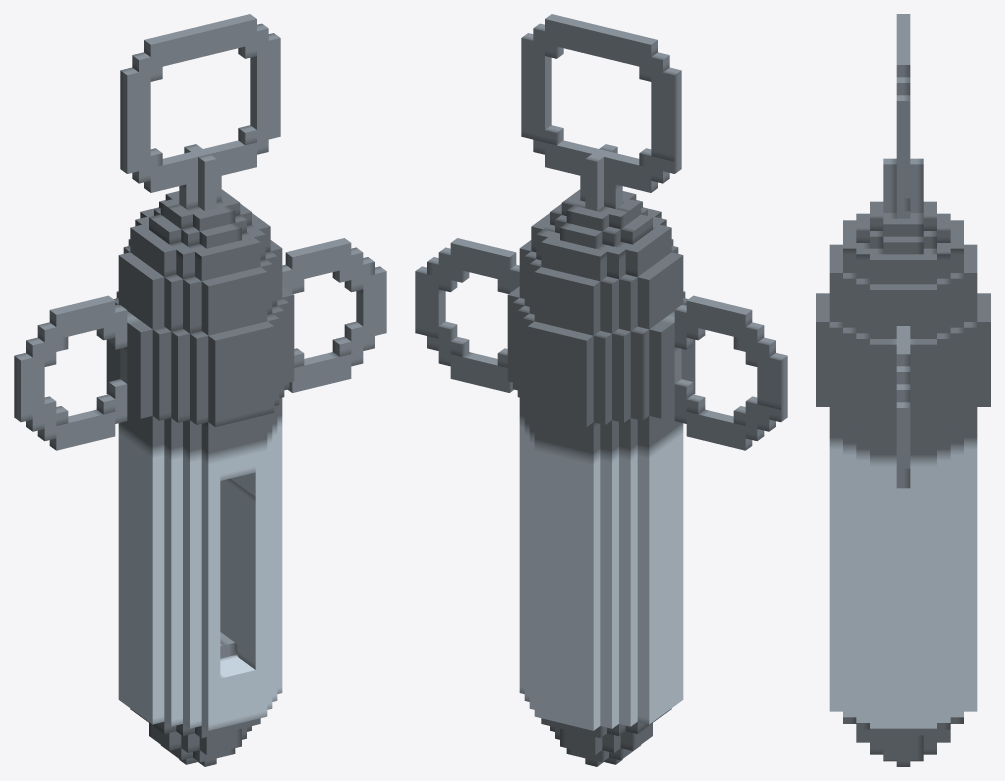
Rendered from strzykawka.dae.
The picture shows the model from 3 angles, left to right: view 1: azimuth 30°, elevation 25°; view 2: azimuth 150°, elevation 25°; view 3: azimuth 270°, elevation 25°; orthographic projection.
Visible parts, largest first — view 1: Content; view 2: Content; view 3: Content.
Part boxes in pixels (<box>): Content: <box>14,14,386,766</box>; Content: <box>415,14,787,766</box>; Content: <box>816,14,990,766</box>.
Size of the model in its own units: 31 by 59 by 13.
1 material, 1 textured.
